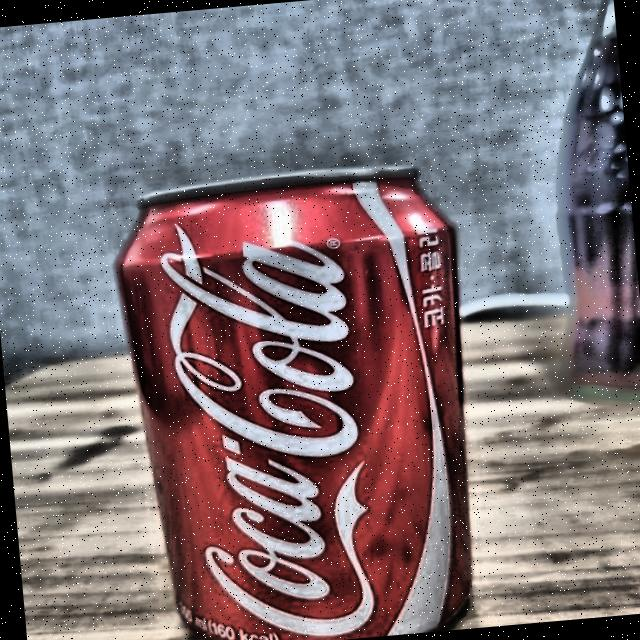cocacola: (88, 94, 517, 640)
